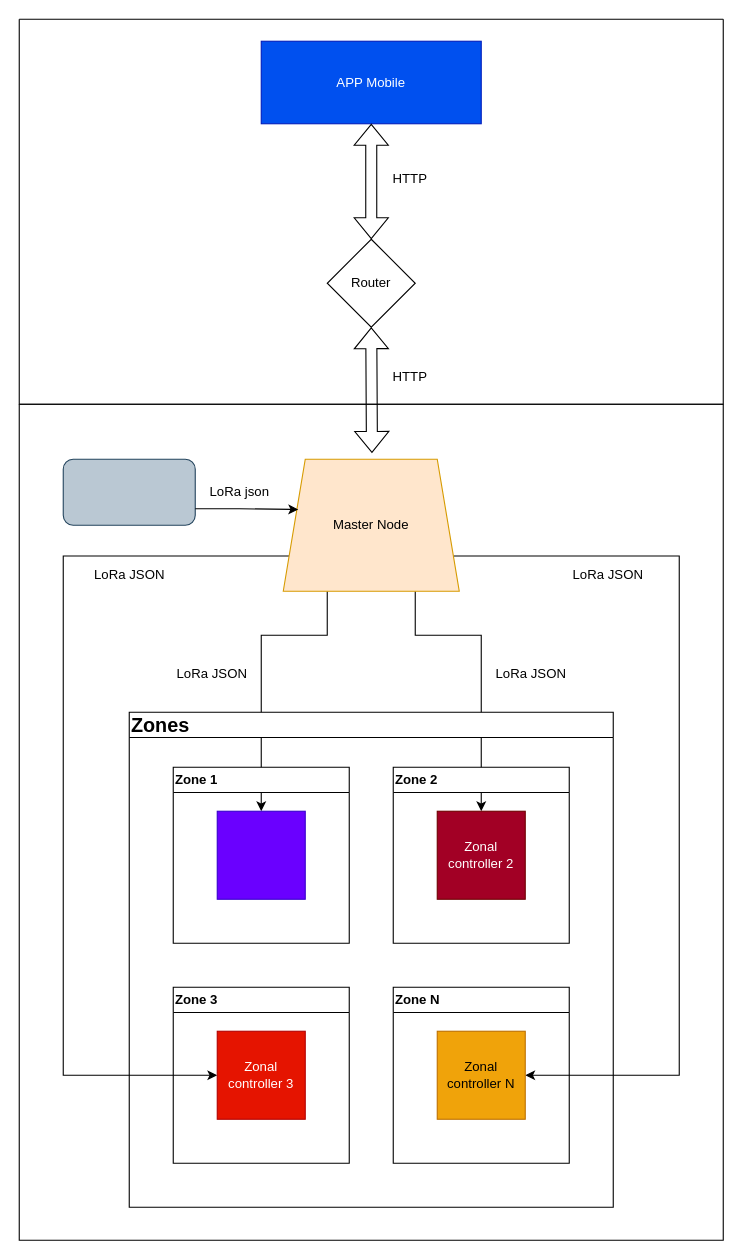
This 743x1260 diagram has some shape labels left out. Each missing label, with the centre of its shape:
"Sensor" goes at point 128,491.
"Zonal controller 1" goes at point 260,854.
